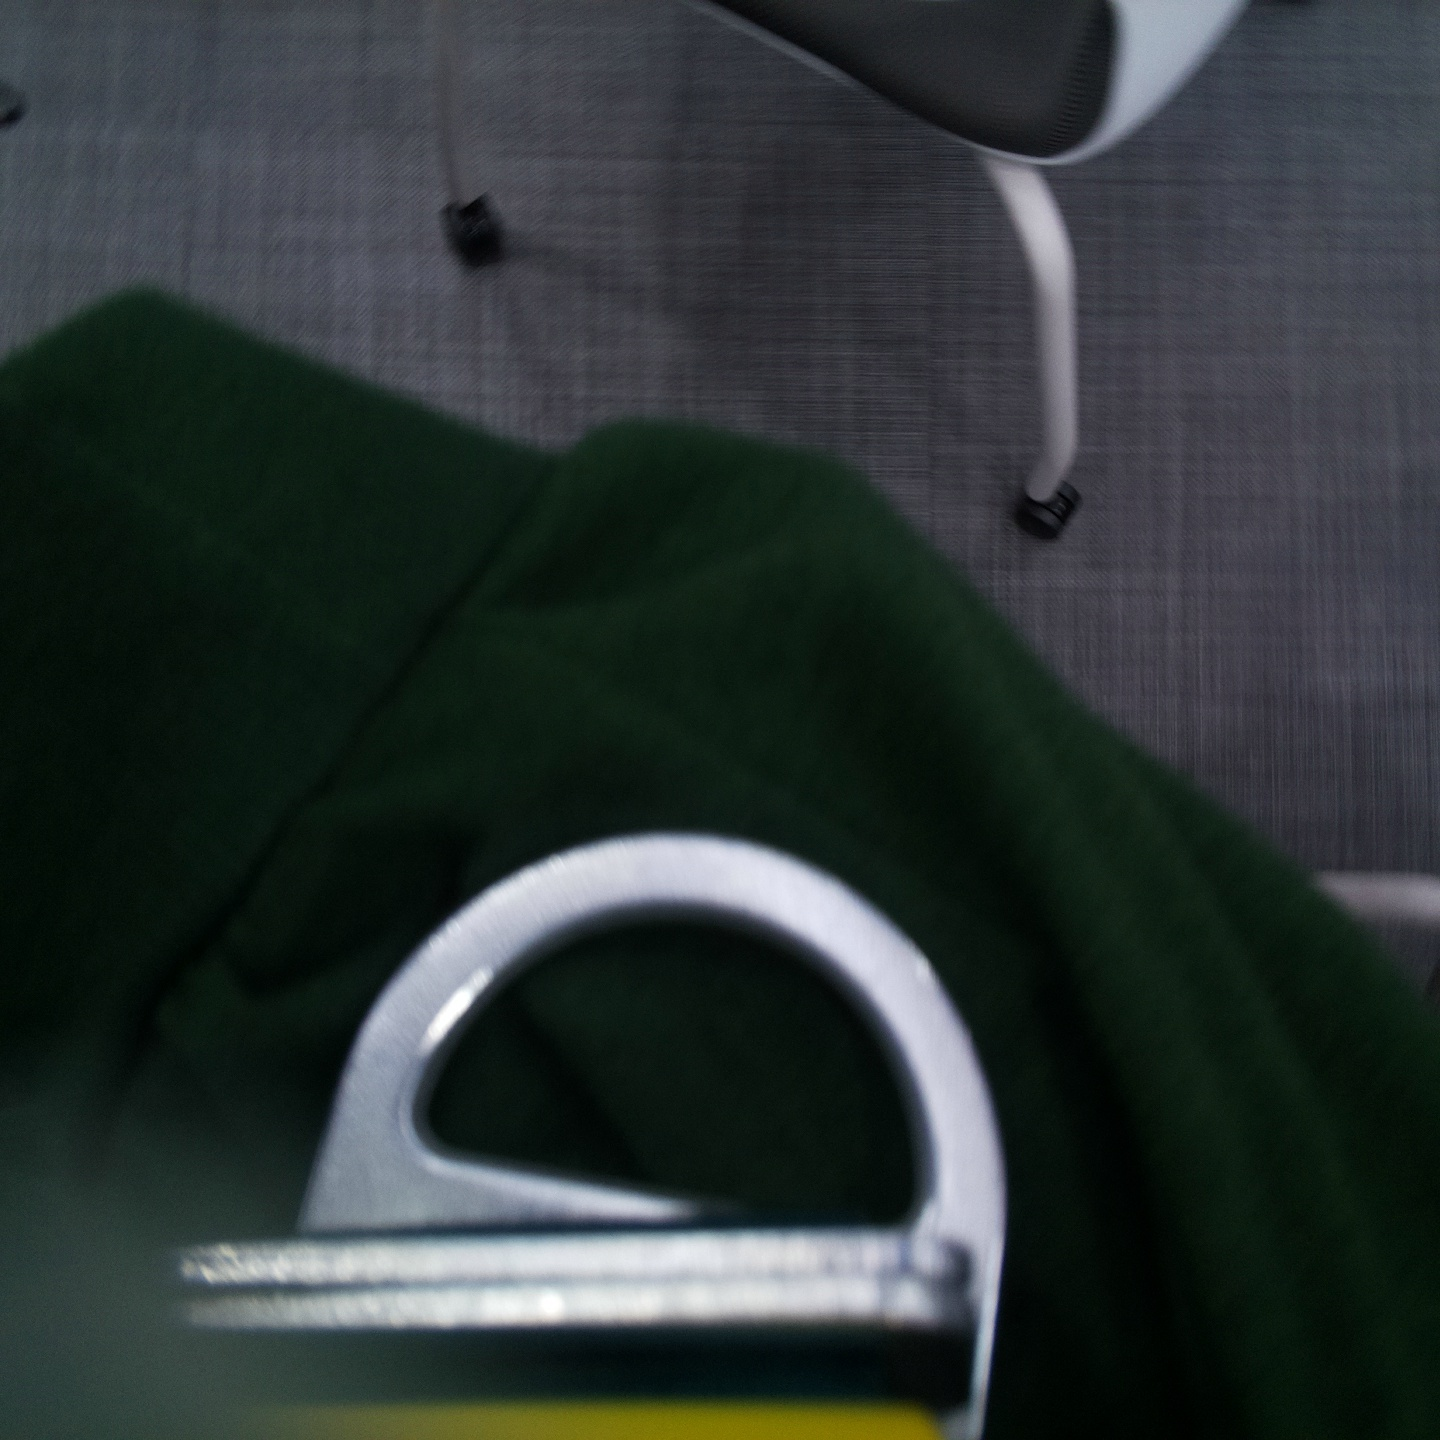UNSUCCESS: (309, 800, 1040, 1232)
